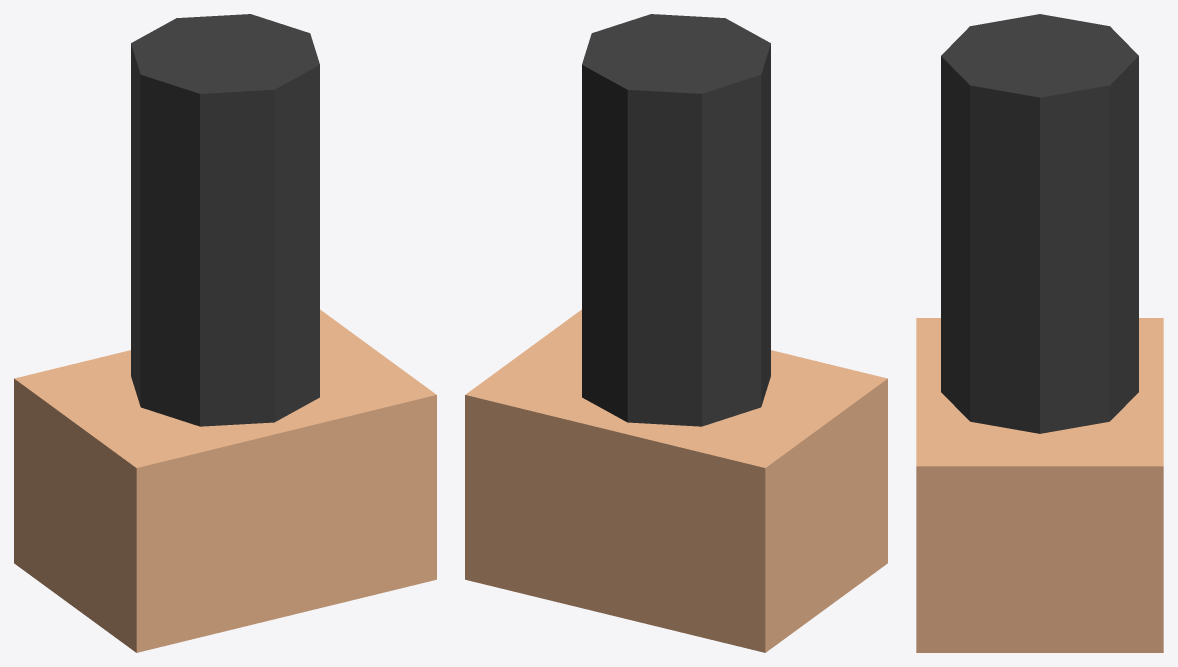
The picture shows the model from 3 angles, left to right: view 1: azimuth 30°, elevation 25°; view 2: azimuth 150°, elevation 25°; view 3: azimuth 270°, elevation 25°; orthographic projection.
Visible parts, largest first — view 1: Stamp base, Grip; view 2: Stamp base, Grip; view 3: Grip, Stamp base.
Part boxes in pixels (left/top/right/bottom): Stamp base: left=14, top=309, right=436, bottom=652; Grip: left=131, top=14, right=319, bottom=426; Stamp base: left=465, top=309, right=887, bottom=652; Grip: left=582, top=14, right=770, bottom=426; Grip: left=941, top=14, right=1138, bottom=433; Stamp base: left=916, top=318, right=1163, bottom=652.
Size of the model in its own units: 8.5 by 14 by 6.
